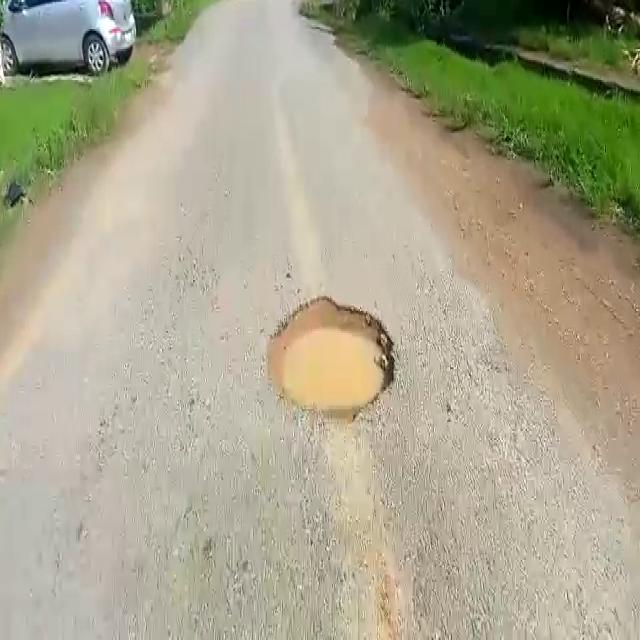Pothole: (266, 297, 397, 415)
